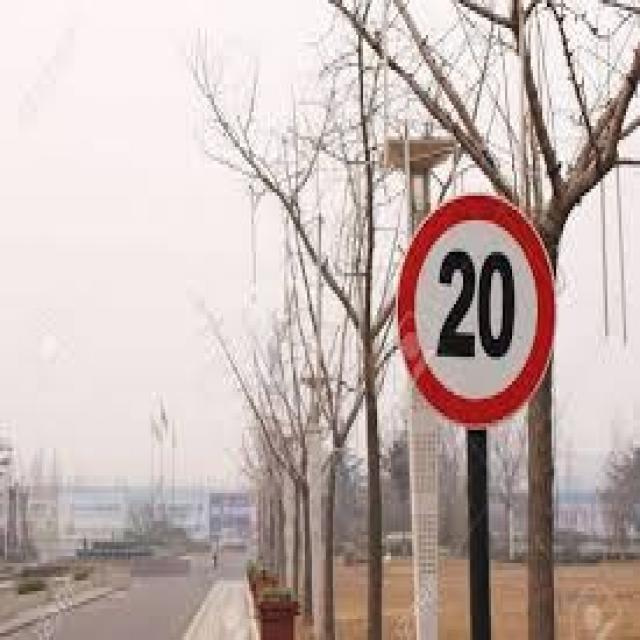speed_limit_20: (398, 188, 559, 428)
